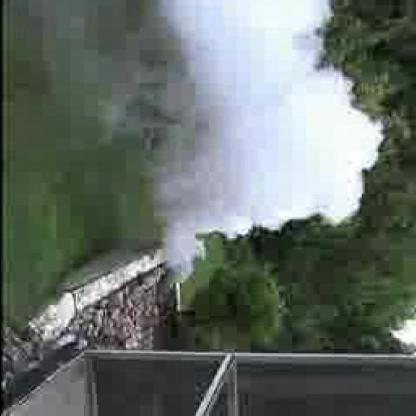Smoke: (122, 5, 376, 250)
